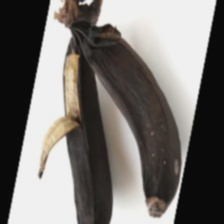banana: (27, 29, 187, 201)
